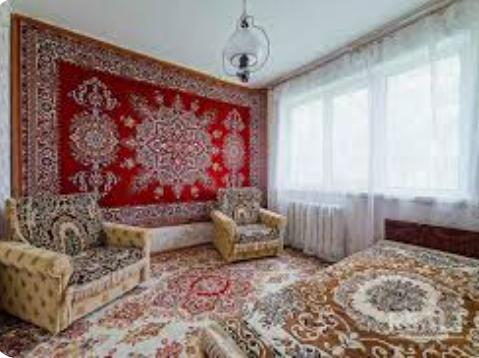carpet: (0, 15, 290, 252), (0, 244, 328, 357), (244, 240, 479, 357), (6, 194, 145, 286), (211, 174, 281, 255)
